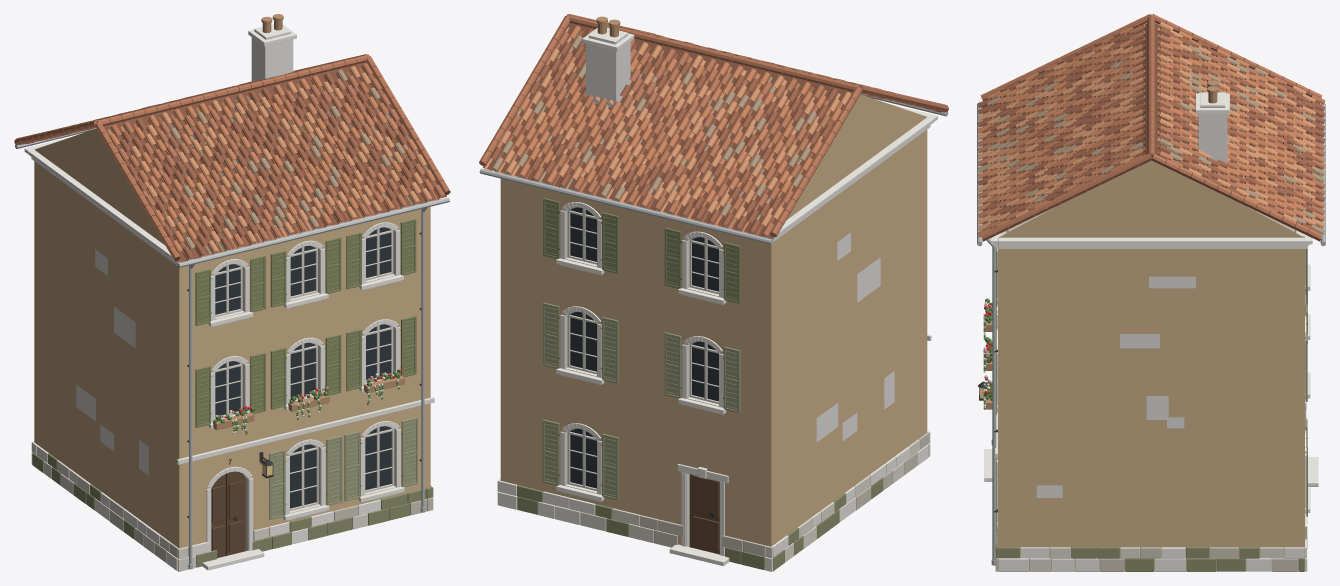
The model's file is RowHouse.fbx.
The picture shows the model from 3 angles, left to right: view 1: azimuth 30°, elevation 25°; view 2: azimuth 150°, elevation 25°; view 3: azimuth 270°, elevation 25°; orthographic projection. The views are drawn at different scales.
Visible parts, largest first — view 1: RowHouse; view 2: RowHouse; view 3: RowHouse.
Part boxes in pixels (left/top/right/bottom): RowHouse: left=14, top=14, right=450, bottom=571; RowHouse: left=479, top=14, right=948, bottom=571; RowHouse: left=977, top=14, right=1325, bottom=571.
Bounding box in the file's own units: 8.8 × 13.14 × 9.1.
